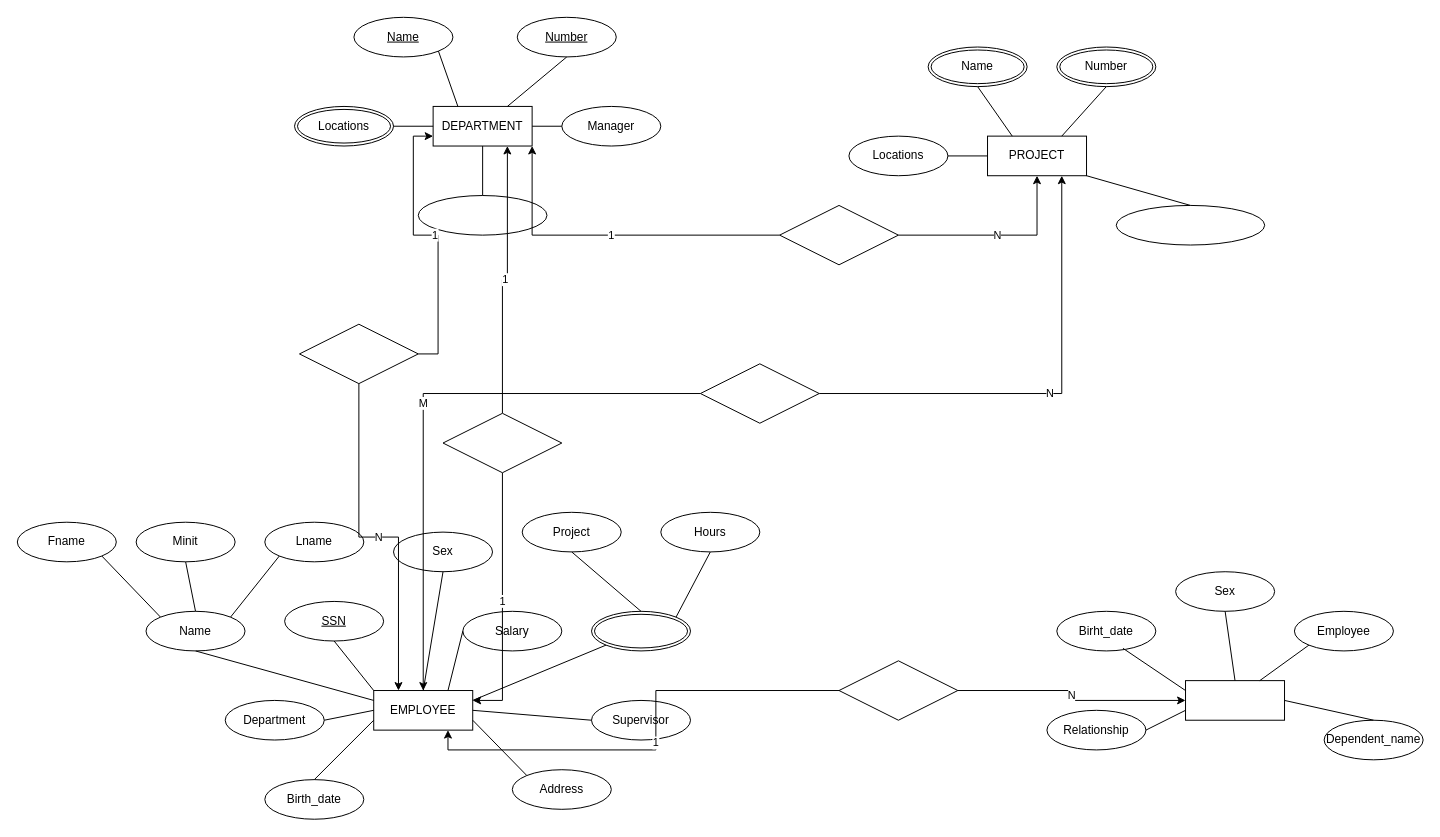
Image size: 1440x837. Some labels were removed from this diagram. The centre of each missing label's shape, as x and y in pixels:
Controlling_department: point 1190,224
controls: point 838,234
DEPENDENT: point 1235,700
has_dependent: point 898,690
Manager_start_date: point 482,215
manages: point 502,442
works_in: point 358,353
Works_on: point 641,630
works_on (hours): point 759,393
